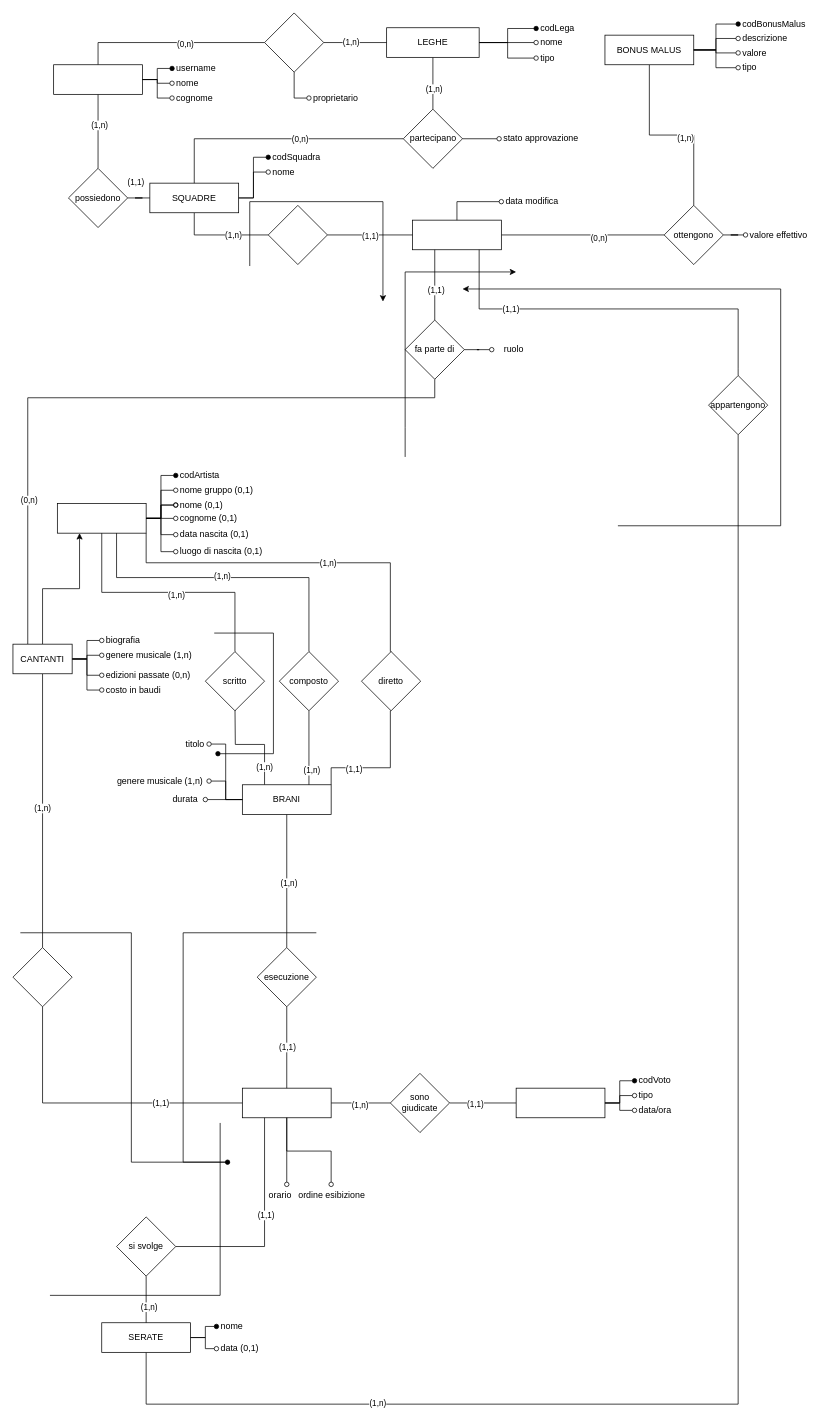
This 833x1421 diagram has some shape labels left out. Each missing label, with the centre of its shape:
"ARTISTI" goes at point (101, 518).
"ESIBIZIONI" goes at point (286, 1102).
"FORMAZIONI" goes at point (456, 234).
"gestiscono" goes at point (294, 42).
"schierano" goes at point (297, 235).
"si esibiscono" goes at point (42, 977).
"UTENTI" goes at point (97, 79).
"VOTI" goes at point (560, 1102).
